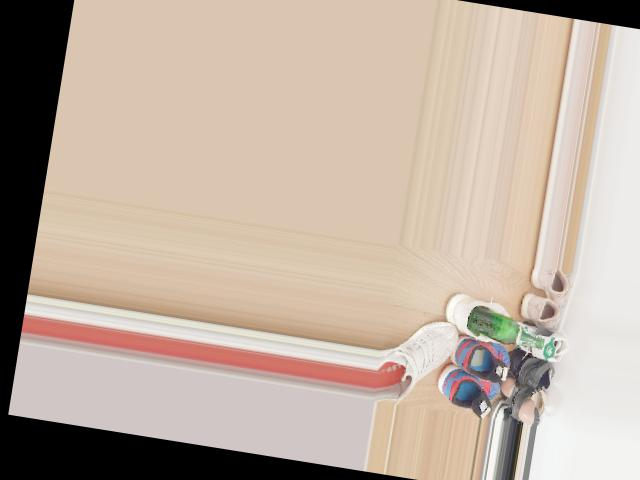beer: (464, 304, 547, 350)
